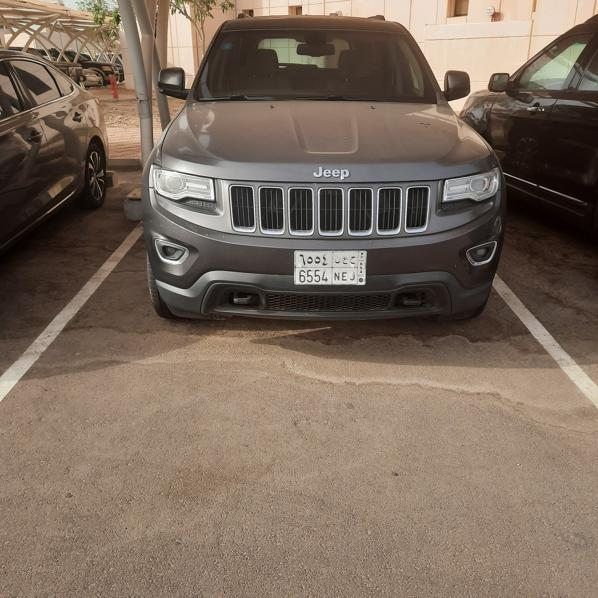numberplate: (295, 251, 366, 285)
